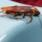cockroach: (1, 6, 41, 18)
